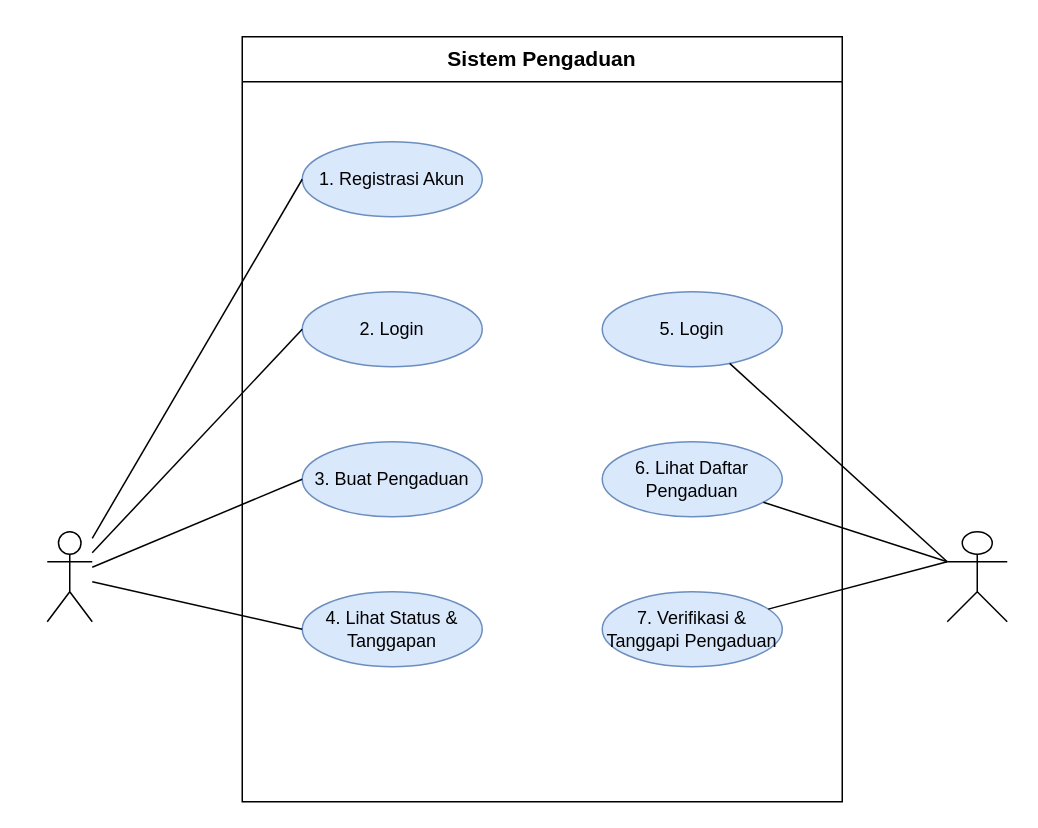
Image size: 1038x828. Some labels were removed from this diagram. Here are the shapes that lost their labels. From the top down, the box of each, then its label:
(46, 530, 92, 622): Pengguna
(946, 530, 1007, 622): Petugas
